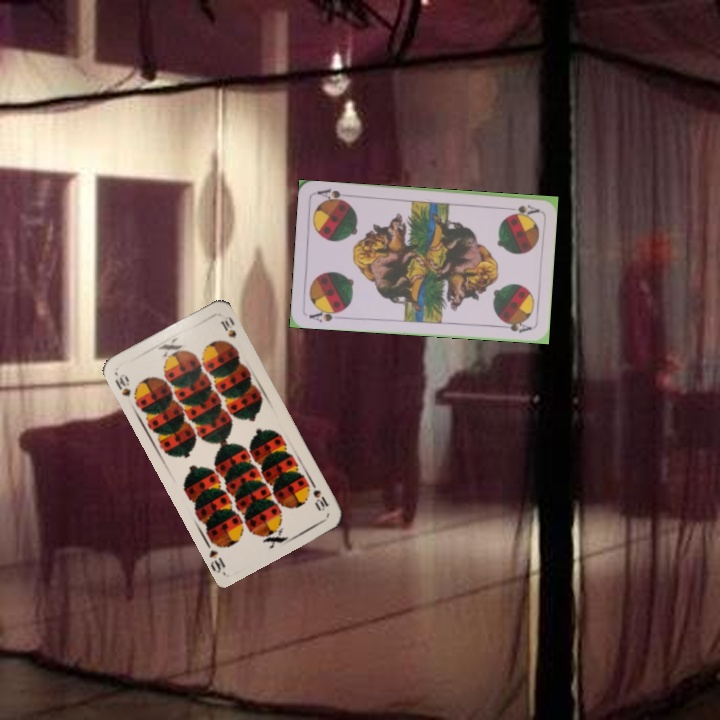S10: (307, 477, 331, 513), (111, 369, 134, 399)
SA: (305, 305, 346, 325), (501, 201, 541, 217)
